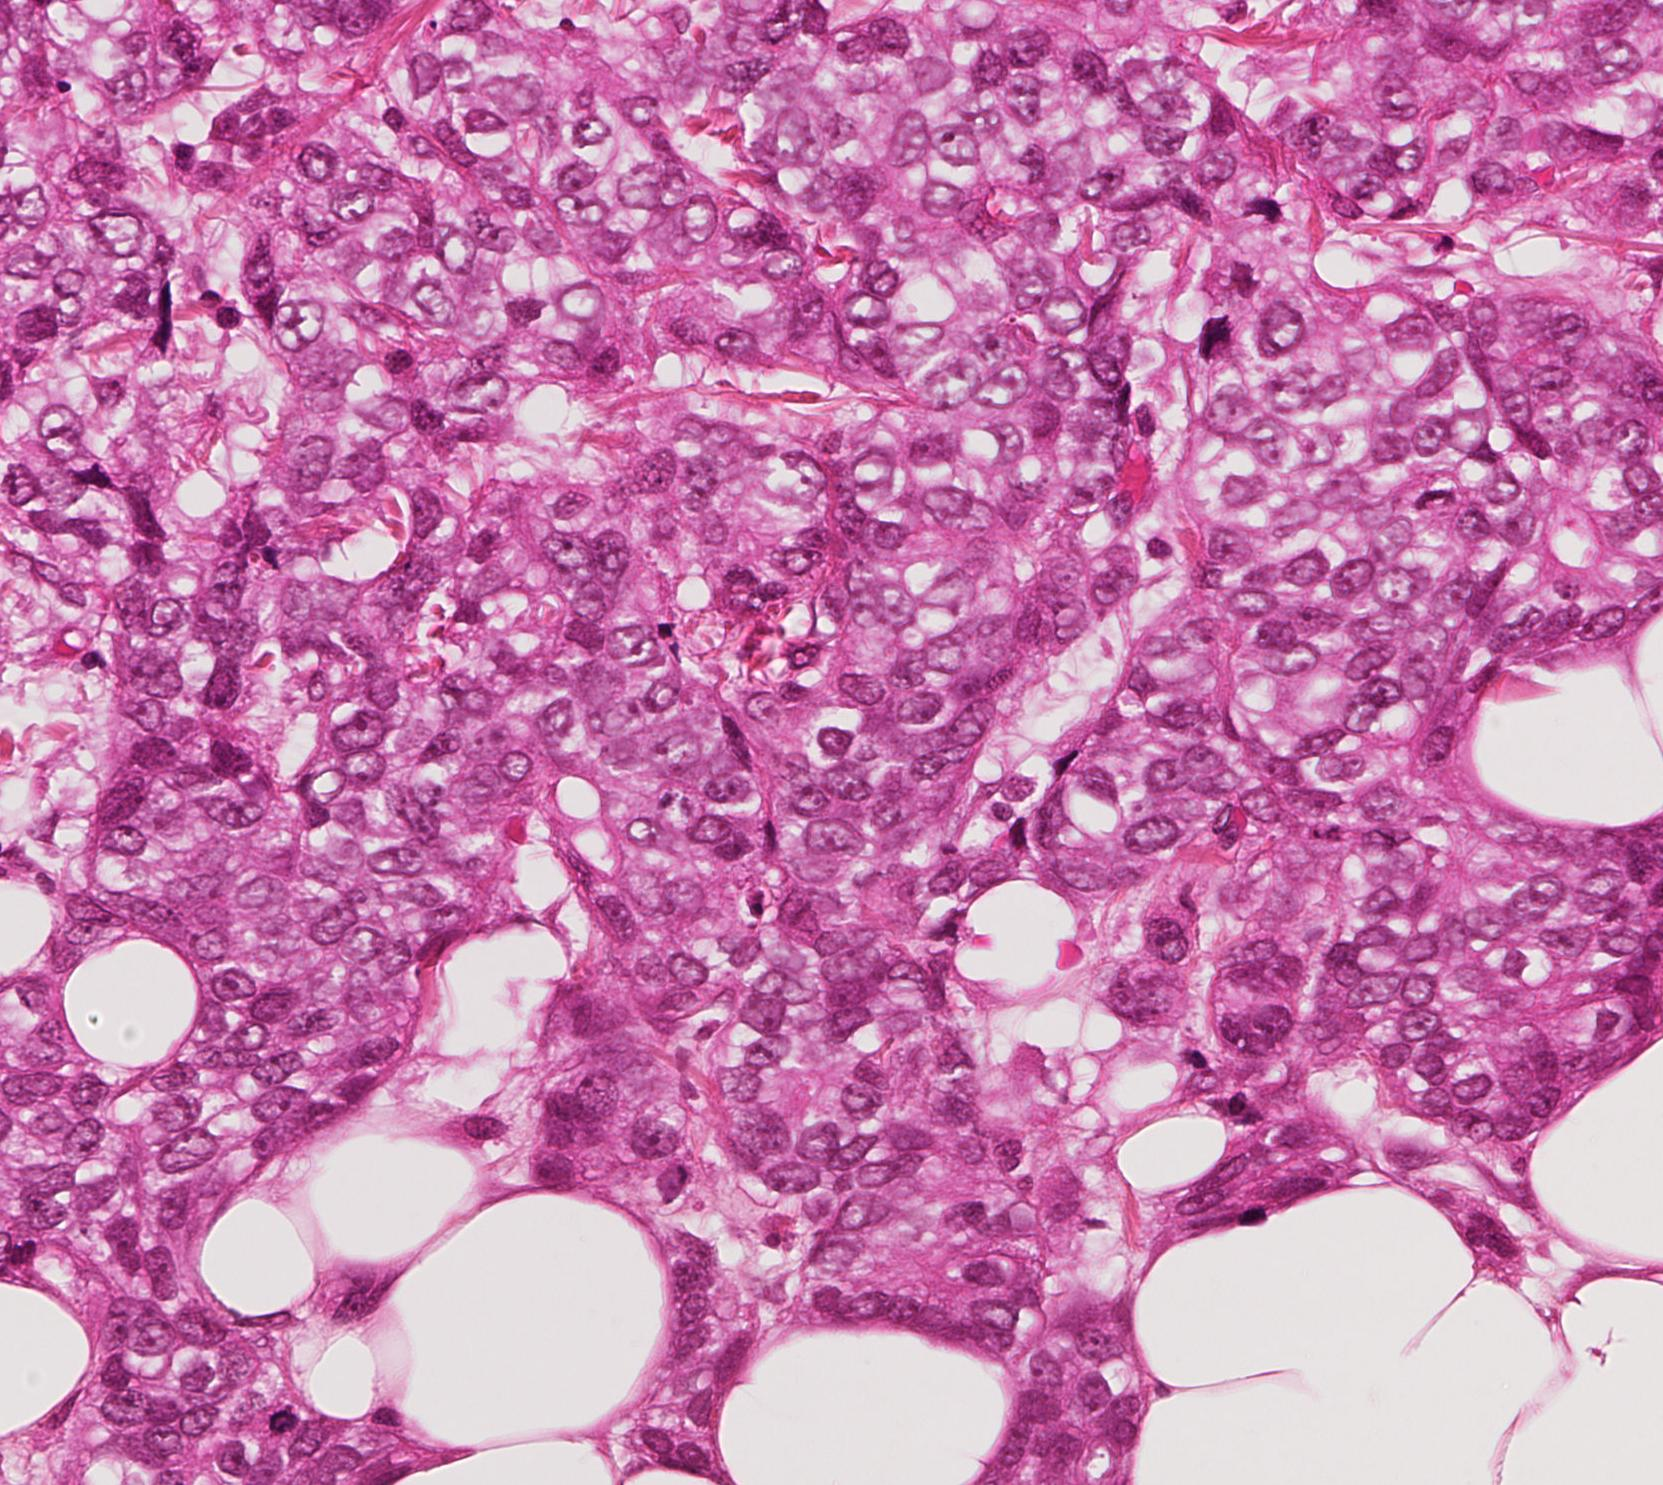mitosis: (257, 1380, 317, 1441)
